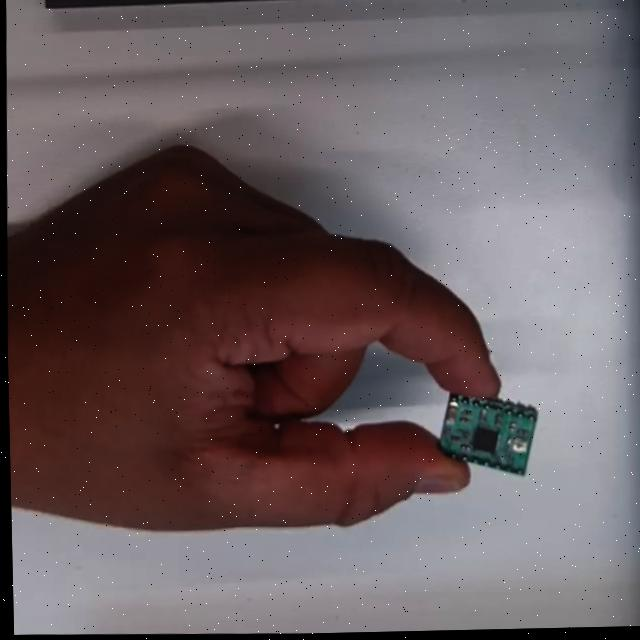Chip: (438, 399, 536, 473)
